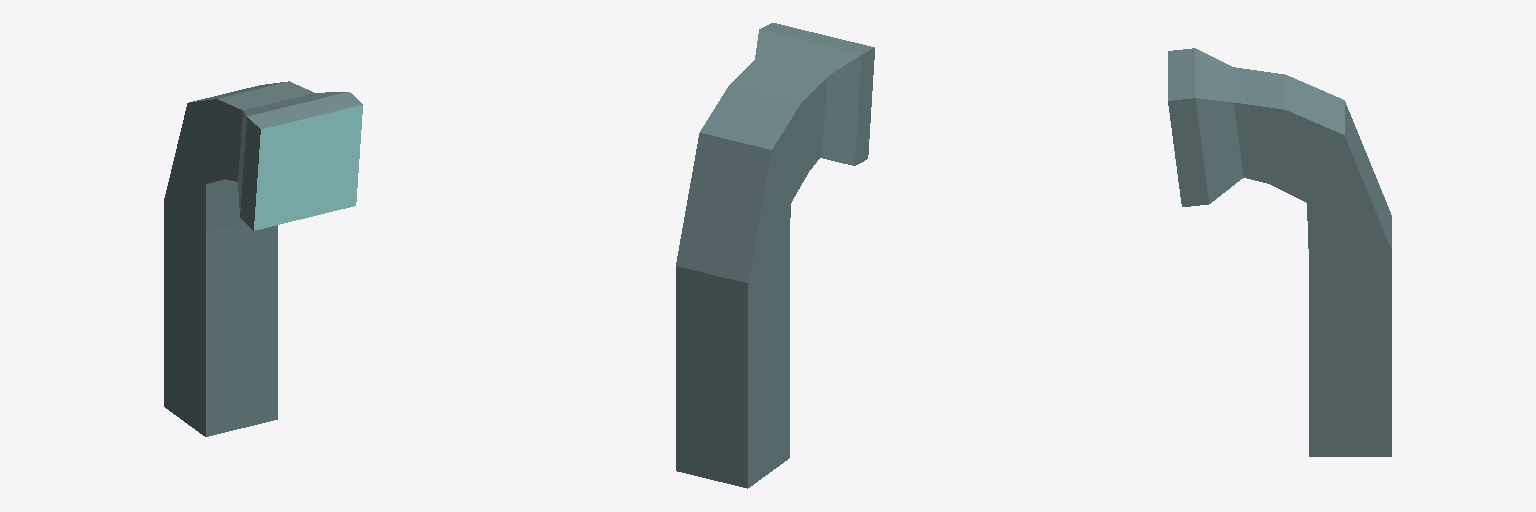
3 renders of one model, left to right at view 1: azimuth 30°, elevation 25°; view 2: azimuth 150°, elevation 25°; view 3: azimuth 270°, elevation 25°, orthographic.
Parts seen in each view (by area): view 1: Cube; view 2: Cube; view 3: Cube.
Boxes of the visible parts, <box> form: Cube: <box>164,81,362,436</box>; Cube: <box>676,23,874,488</box>; Cube: <box>1168,48,1391,456</box>.
Bounding box in the file's own units: 0.7275 × 2.48 × 1.38.
Materials: 1 (1 with a texture image).